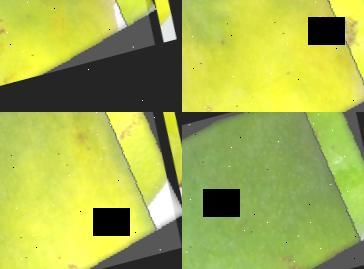PartiallyRipe: (0, 112, 182, 269), (182, 0, 364, 112), (0, 0, 163, 112)
Unripe: (182, 112, 364, 269)
